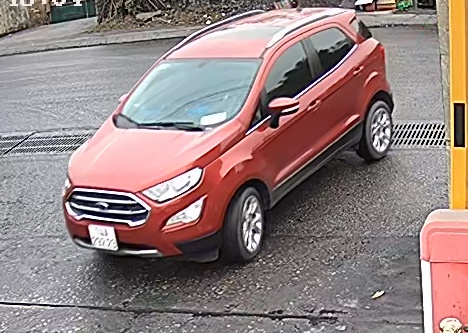vehicle plate: (85, 220, 117, 250)
